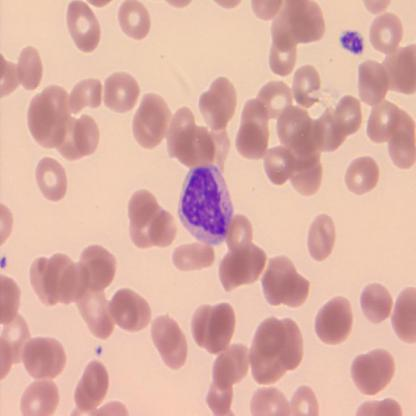Metamyelocyte: (174, 162, 236, 245)
